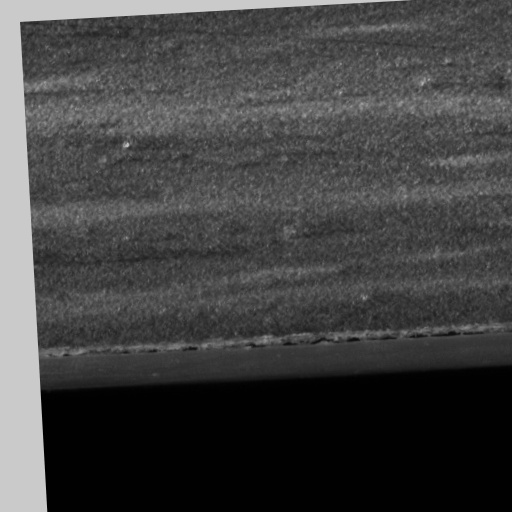jiaofeng: (247, 321, 483, 346)
